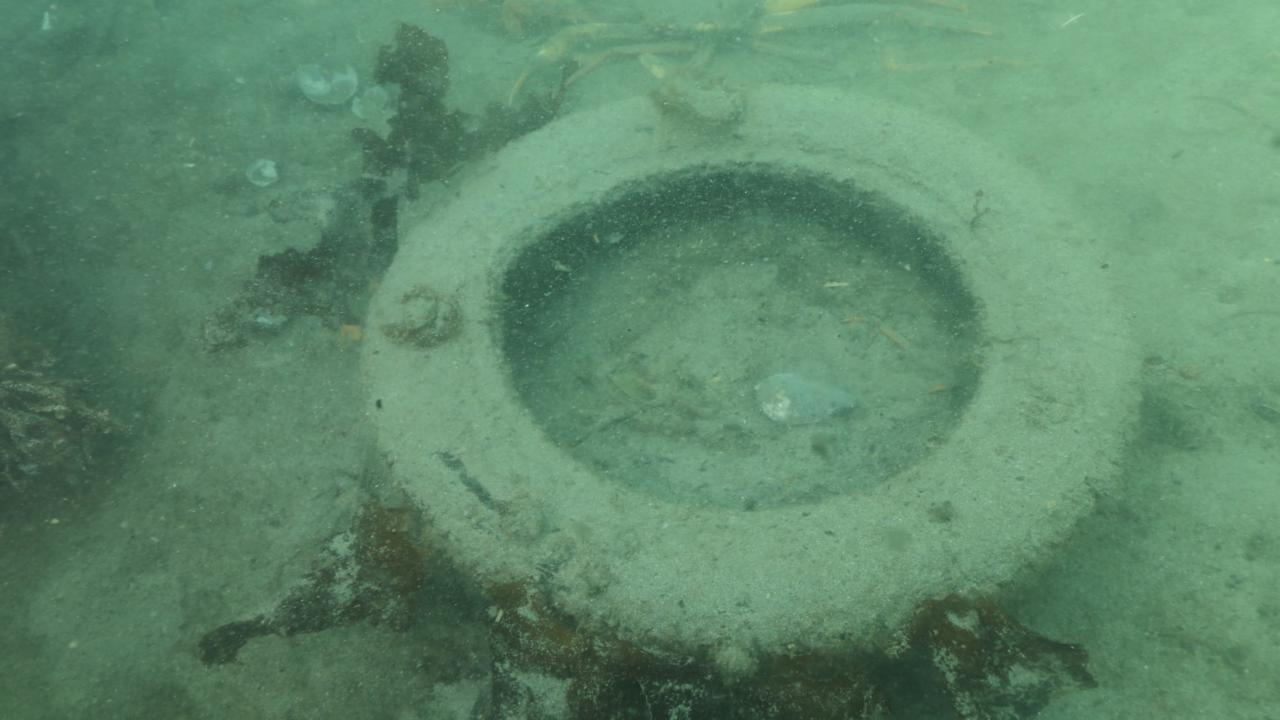tire: (355, 79, 1140, 693)
